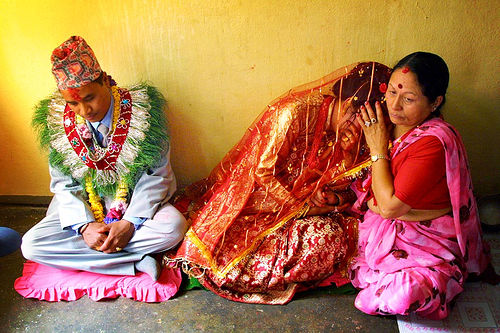without_mask: (383, 62, 433, 125), (62, 74, 118, 123)
